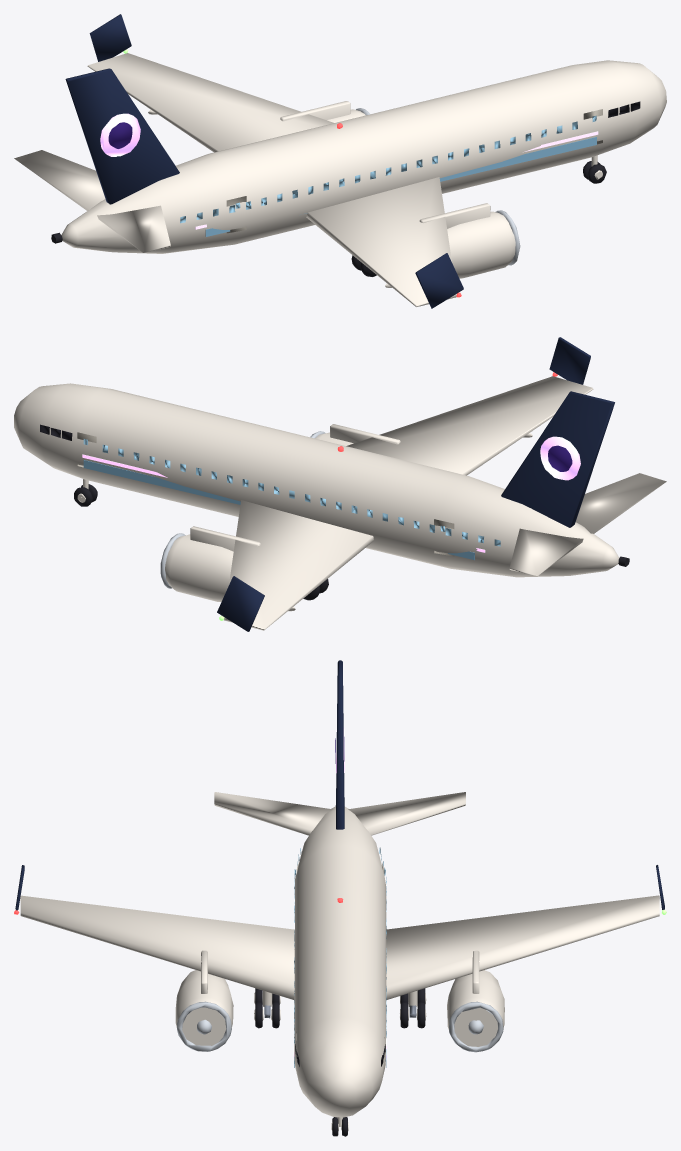
The model's file is airliner.glb.
3 views of the same model, one above another, from view 1: azimuth 30°, elevation 25°; view 2: azimuth 150°, elevation 25°; view 3: azimuth 270°, elevation 25° (orthographic). The views are drawn at different scales.
Visible parts, largest first — view 1: airliner; view 2: airliner; view 3: airliner.
Part boxes in pixels (x1,y1,x2,y2): airliner: (14,14,666,308); airliner: (14,337,666,631); airliner: (14,660,666,1136).
Size of the model in its own units: 28.25 by 10.24 by 26.92.
1 material, 1 textured.
